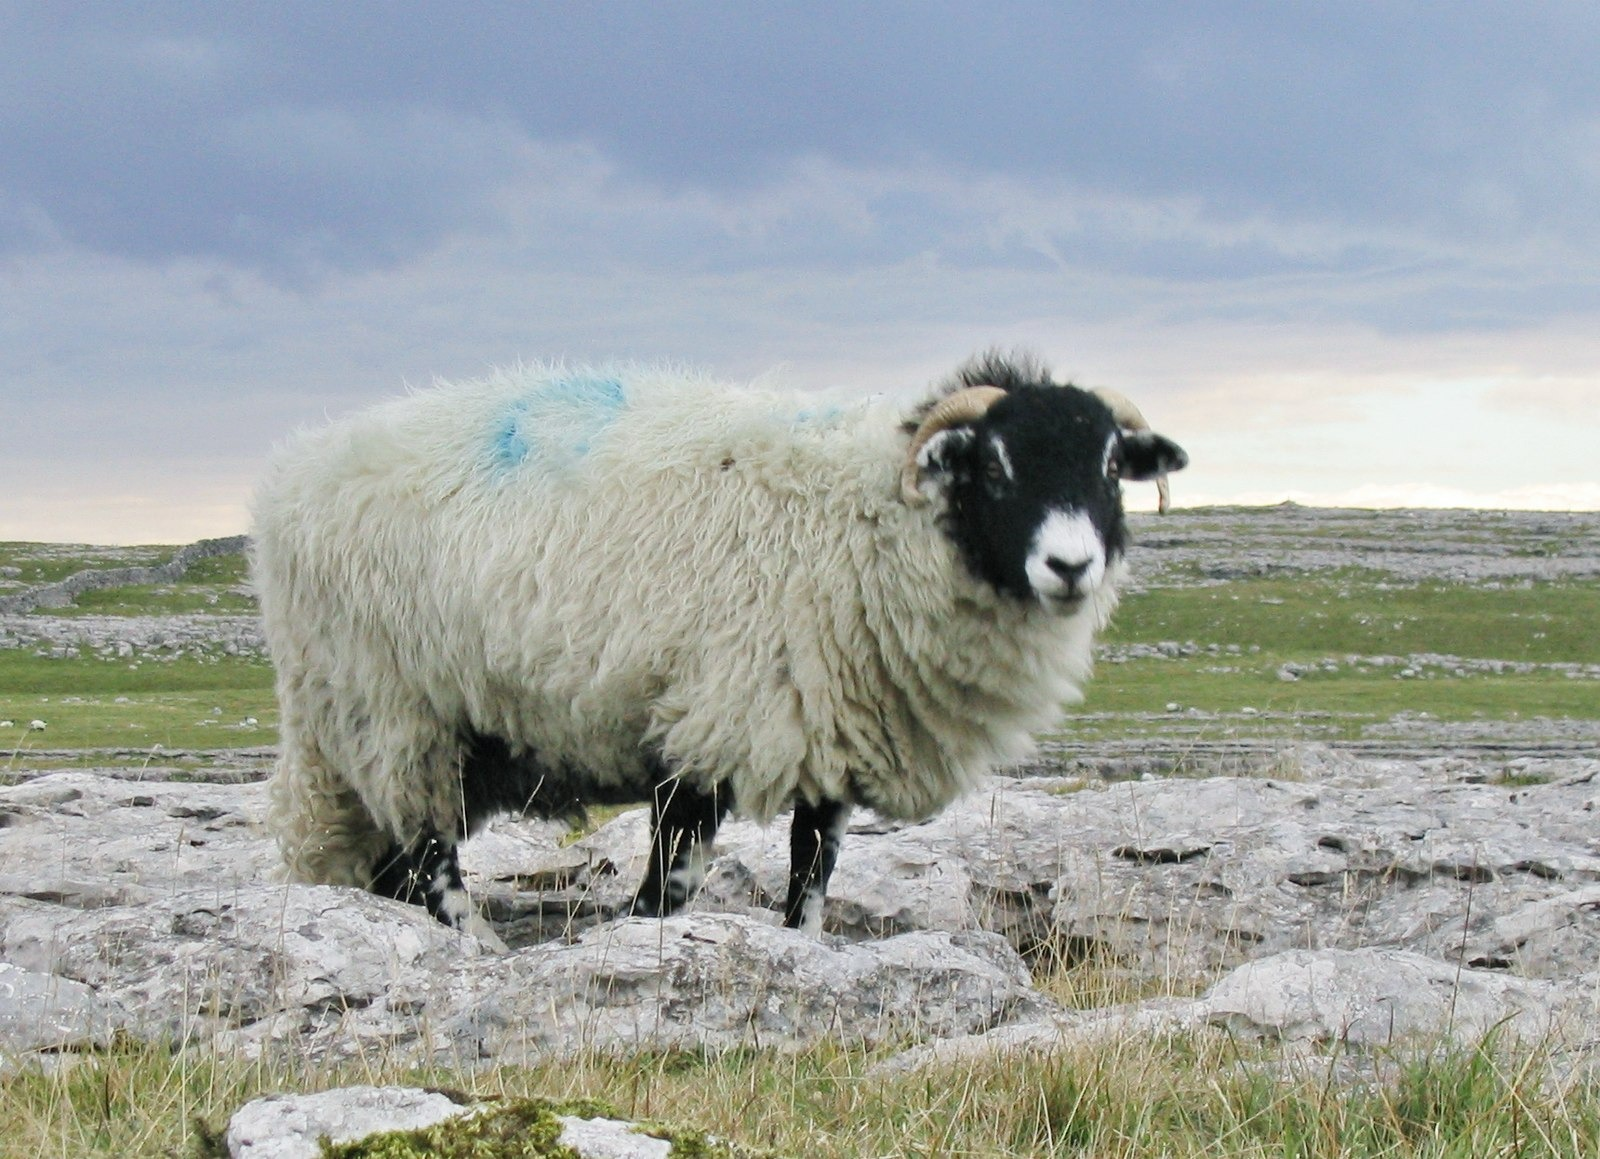standing: (237, 348, 1188, 934)
